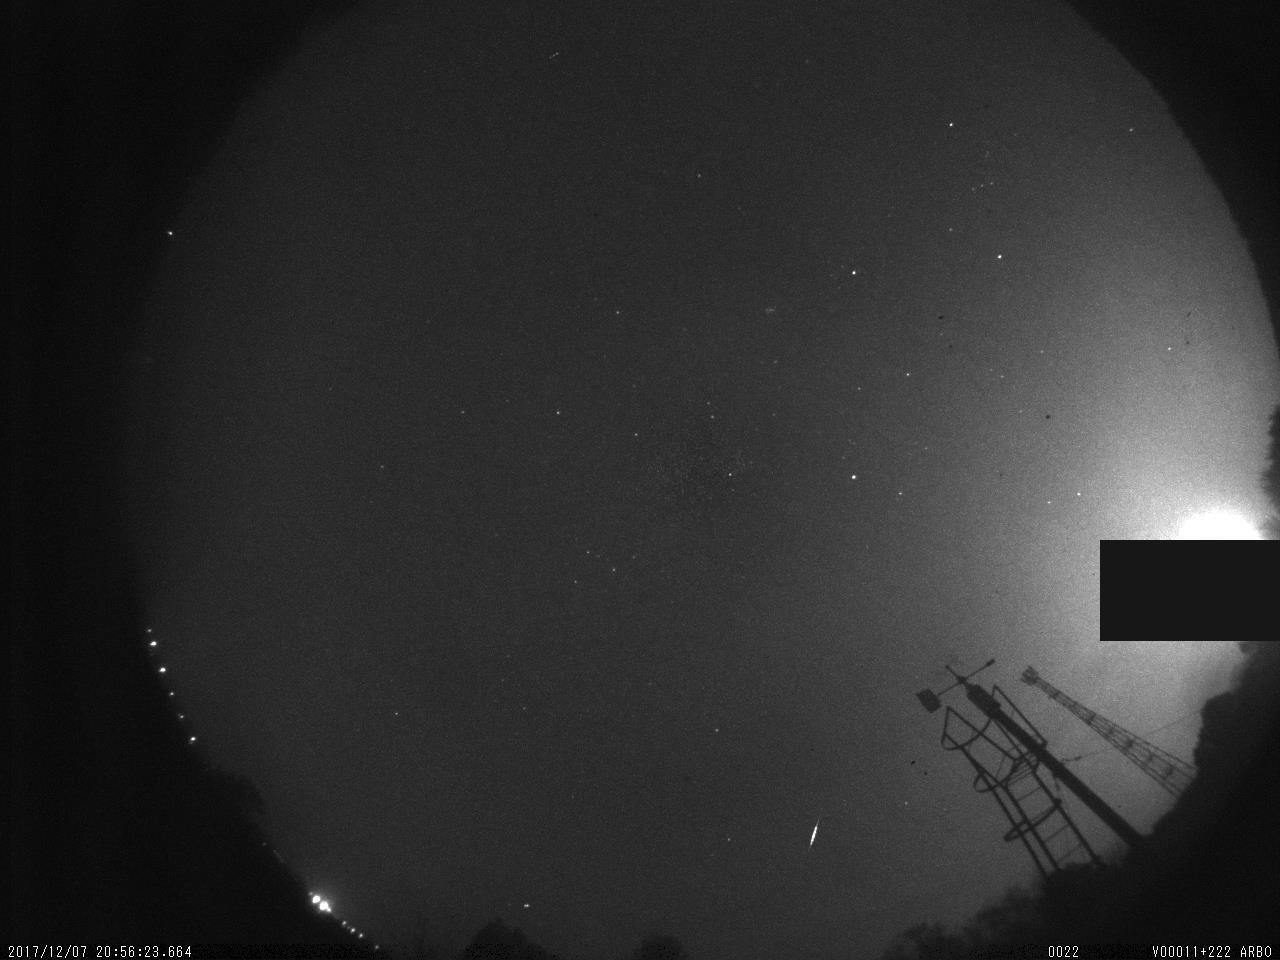meteor: (805, 821, 824, 852)
